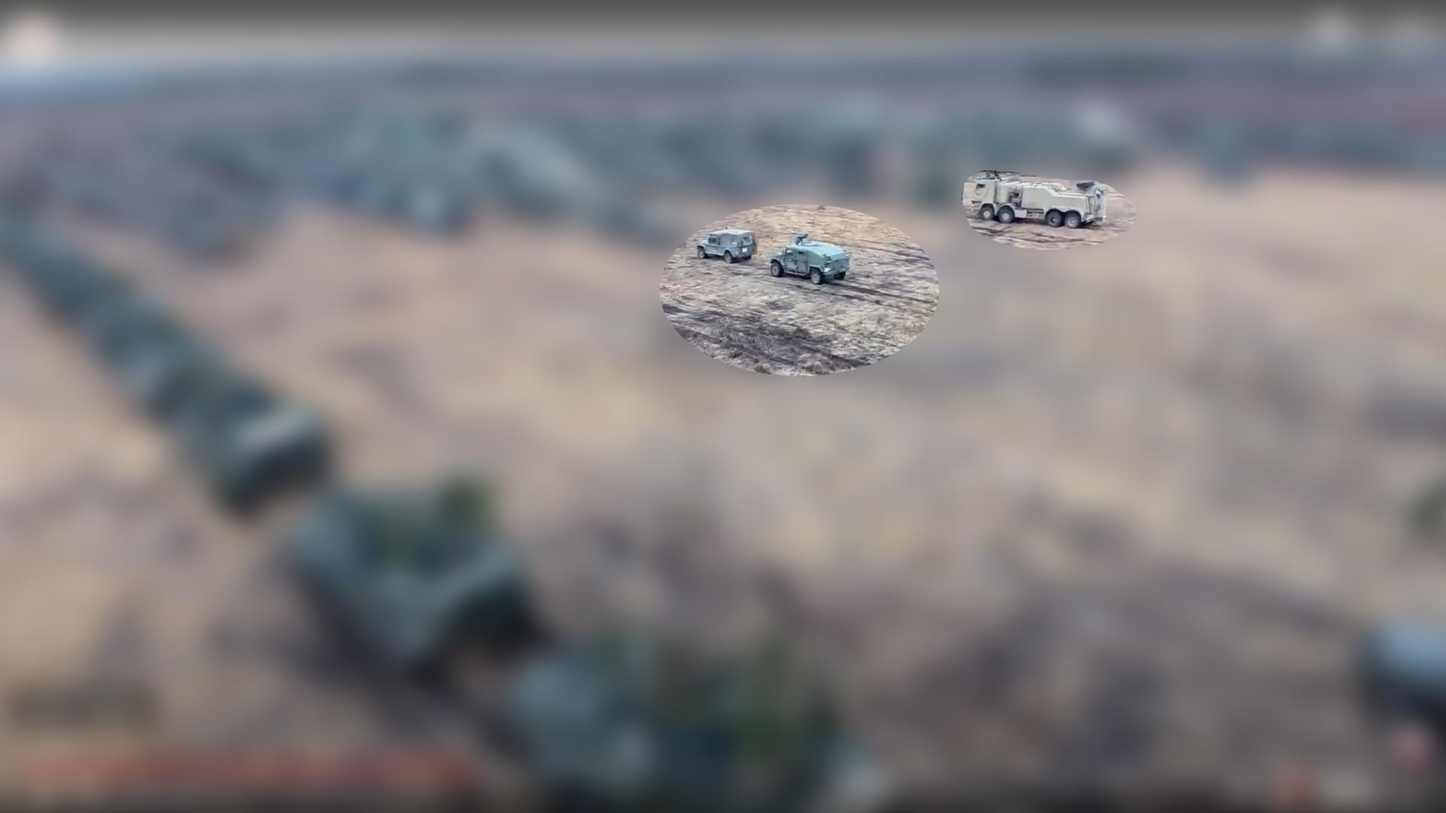armored_car: (769, 239, 851, 284), (695, 227, 757, 265)
truck: (972, 175, 1109, 227)
